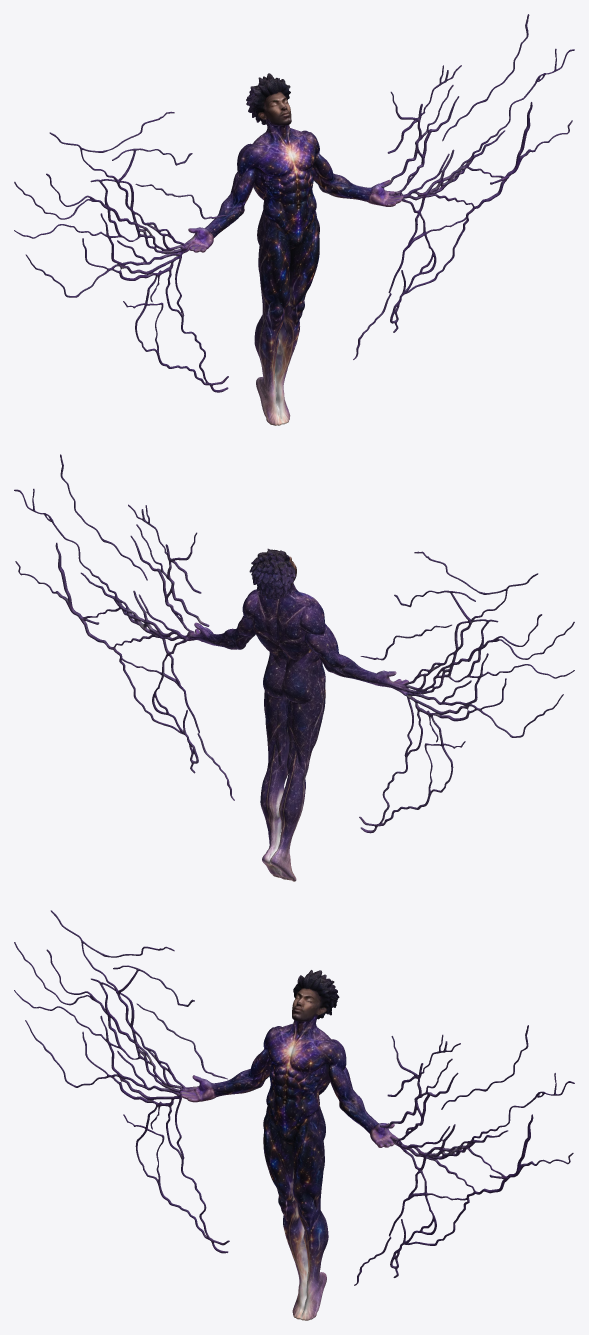
The model's file is Meshy_AI_Celestial_Ascension_0812024244_texture-optimized_t1hprl.glb.
3 renders of one model, top to bottom at view 1: azimuth 30°, elevation 25°; view 2: azimuth 150°, elevation 25°; view 3: azimuth 330°, elevation 25°, orthographic.
Parts seen in each view (by area): view 1: mesh_node; view 2: mesh_node; view 3: mesh_node.
Part boxes in pixels (x1,y1,x2,y2): mesh_node: [14, 14, 574, 425]; mesh_node: [14, 454, 574, 881]; mesh_node: [14, 910, 574, 1320].
Size of the model in its own units: 1.91 by 1.17 by 0.2389.
1 material, 1 textured.
